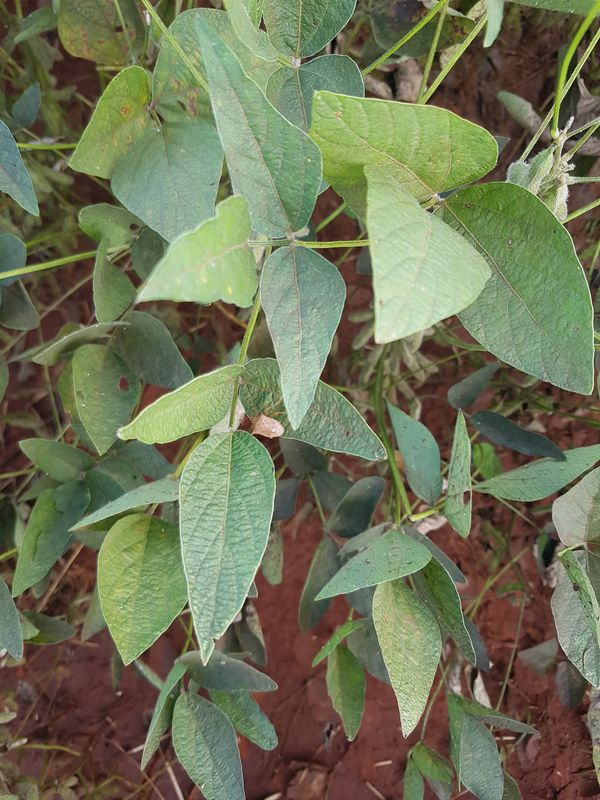Euschistus_heros_adulto: (244, 409, 288, 445)
